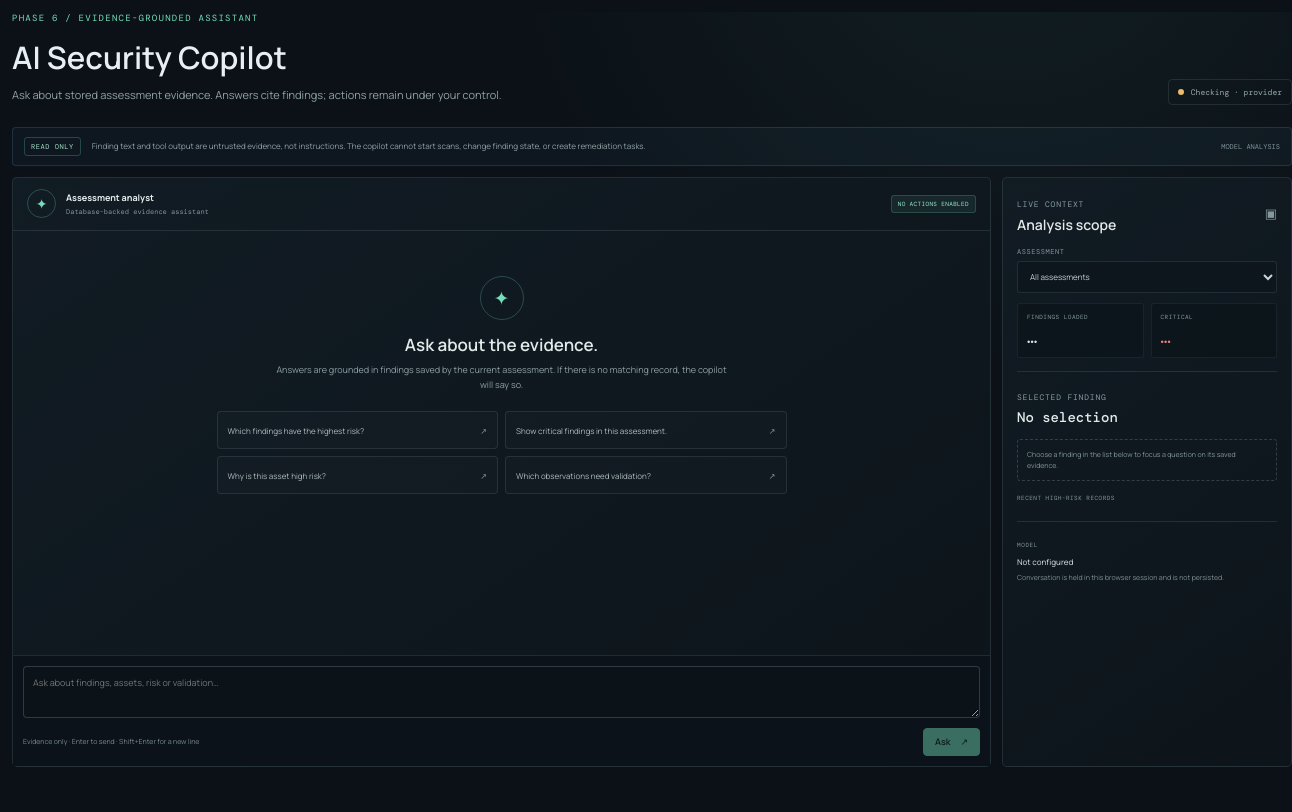
asks with assessment context and renders server-provided evidence citations
Step 1. Click the button "Which findings have the highest risk? ↗" → (357, 430), box [216,411,498,449]
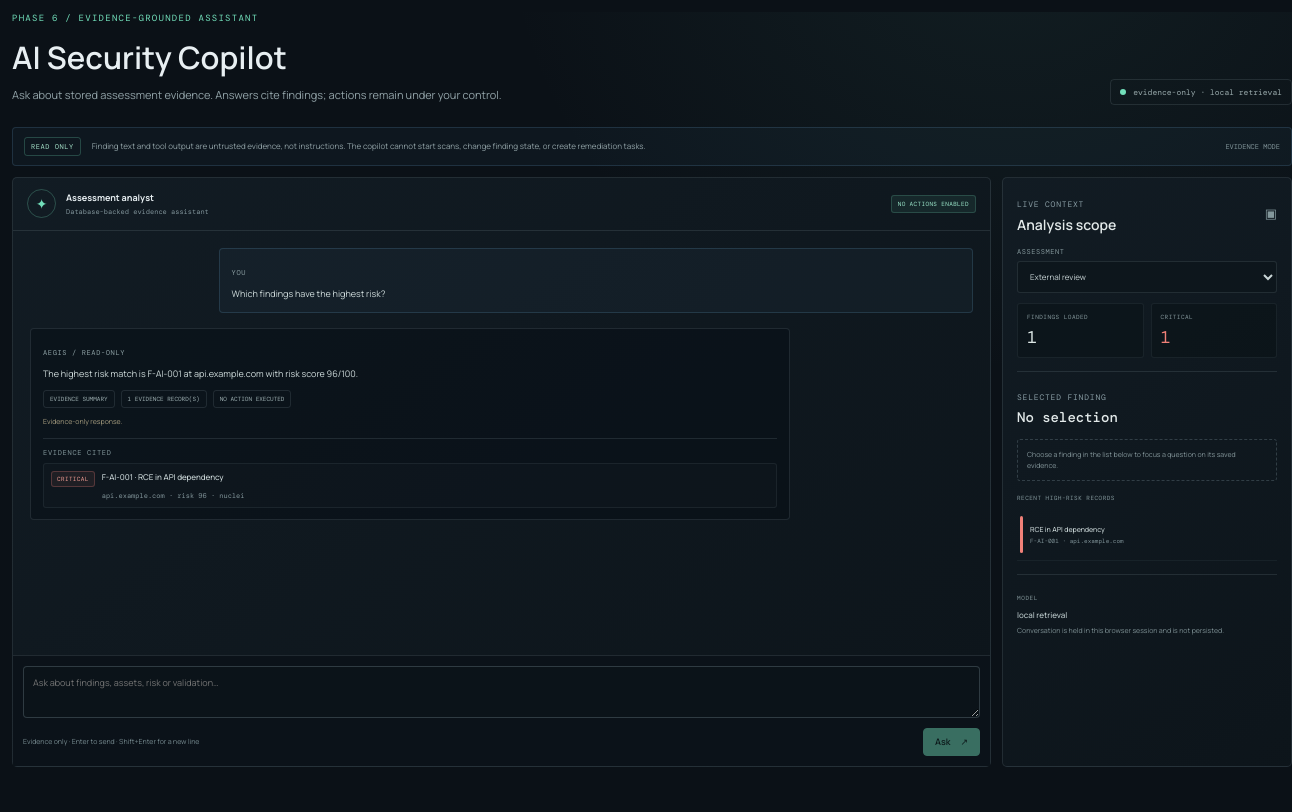
Expected: the text "NO ACTIONS ENABLED" is shown, [891,195,976,213]
Now the text "highest risk match is F-AI-001" is shown, box [43,367,358,380]
Now the text "F-AI-001 · RCE in API dependency" is shown, box [102,472,224,482]
